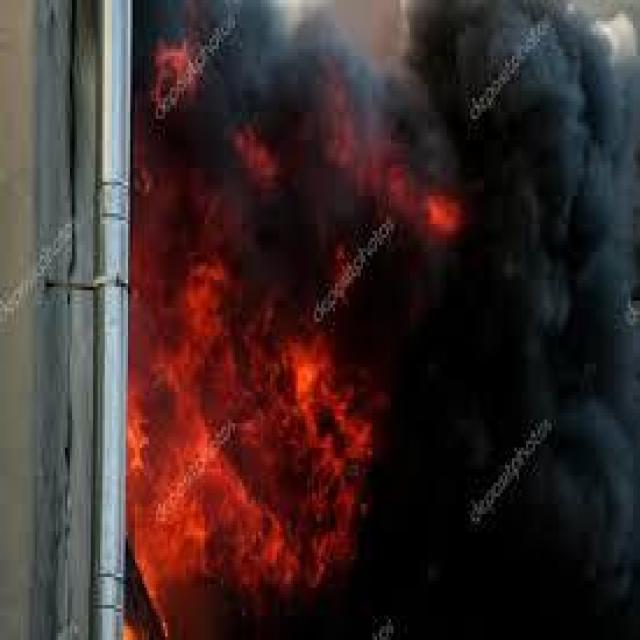fire: (109, 322, 352, 635)
smoke: (142, 31, 638, 302), (386, 297, 636, 640)
